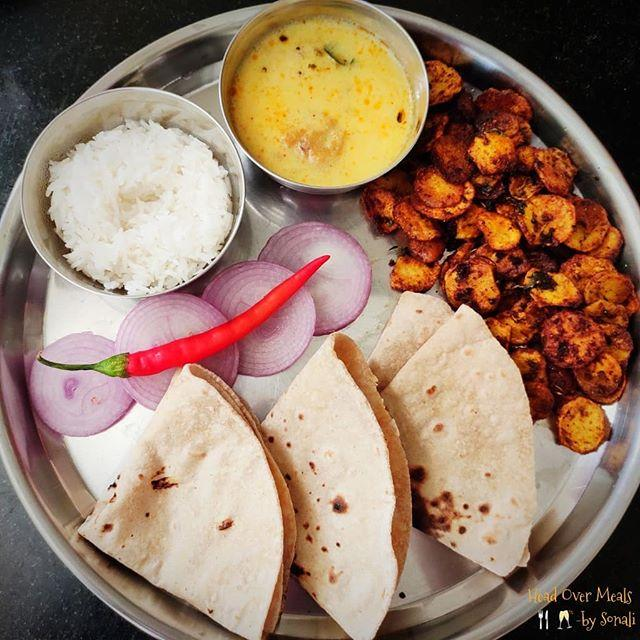Roti: (78, 387, 293, 622), (253, 356, 422, 617), (371, 304, 534, 558)
White Rice: (34, 104, 252, 290)
